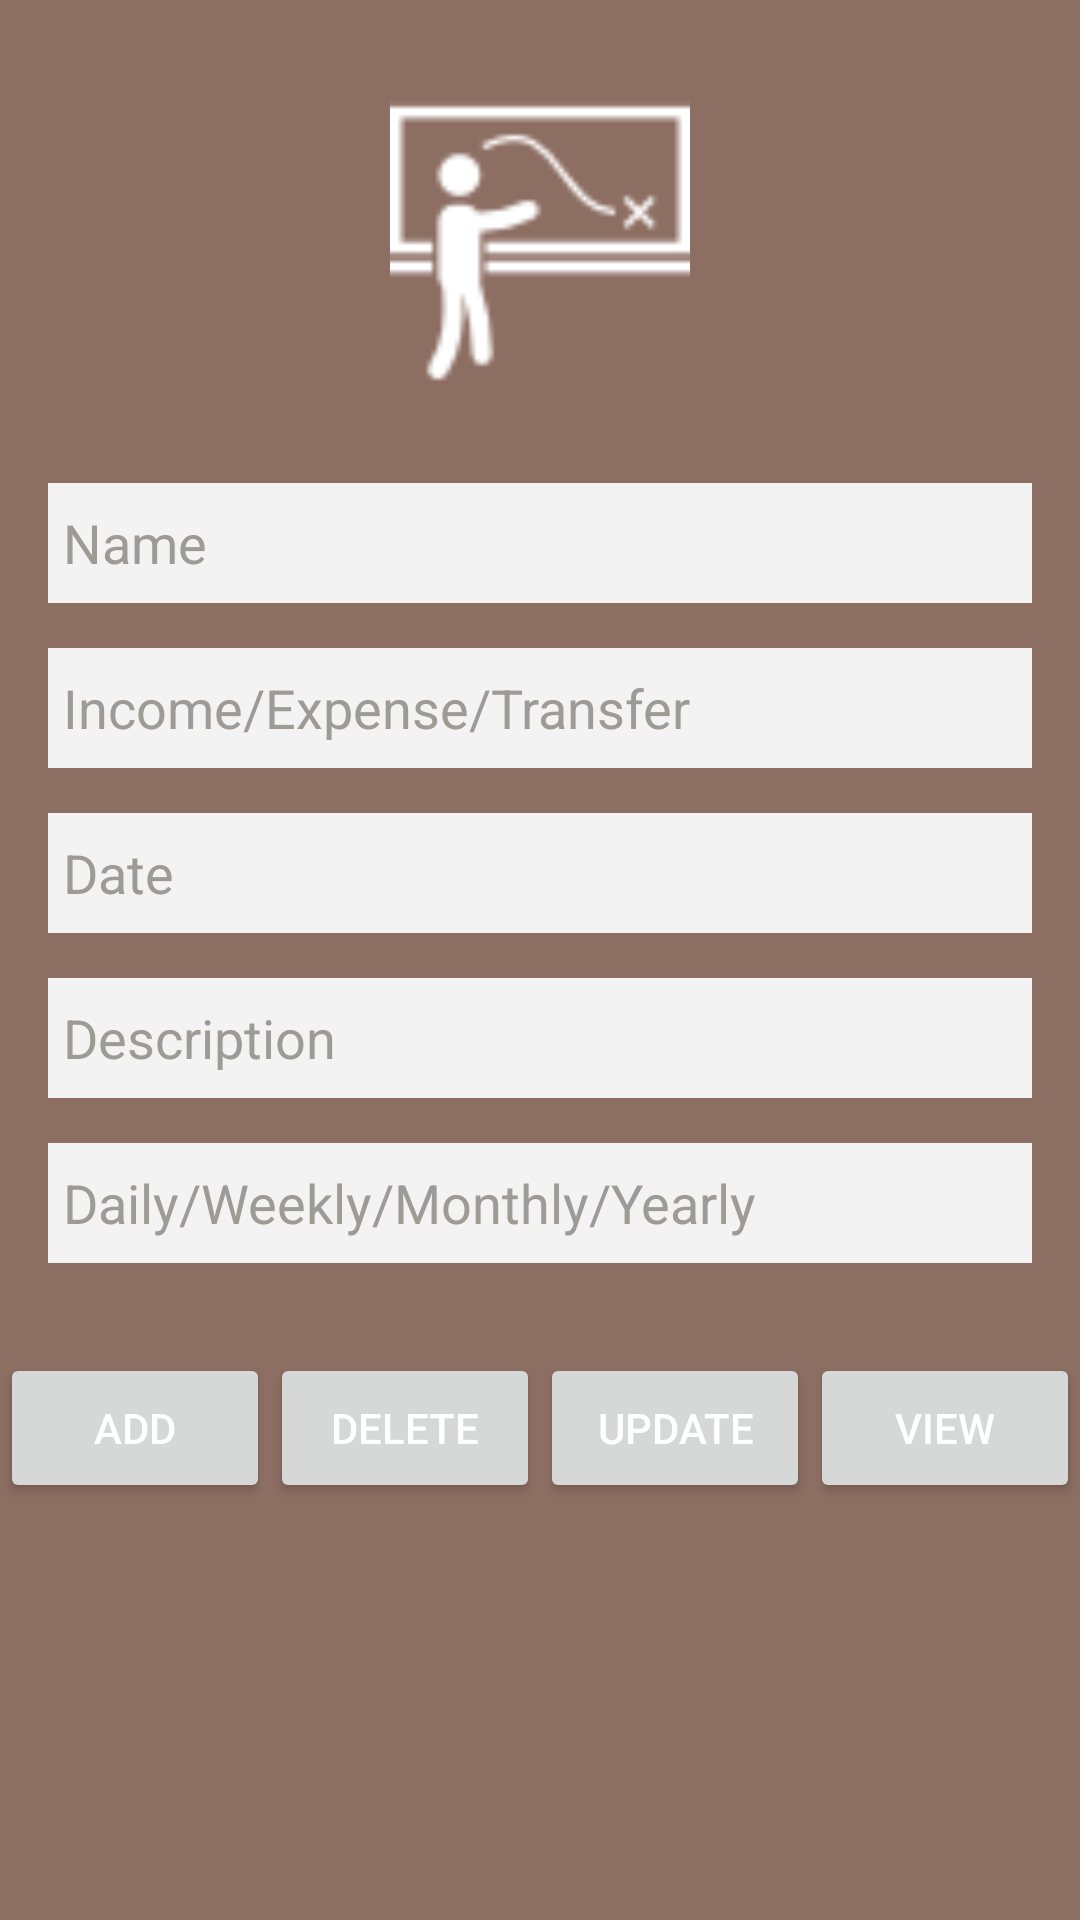

Named icons in this screenshot (1080 x 1920) and their centers, (x=x, y=y):
plan: (x=540, y=243)
